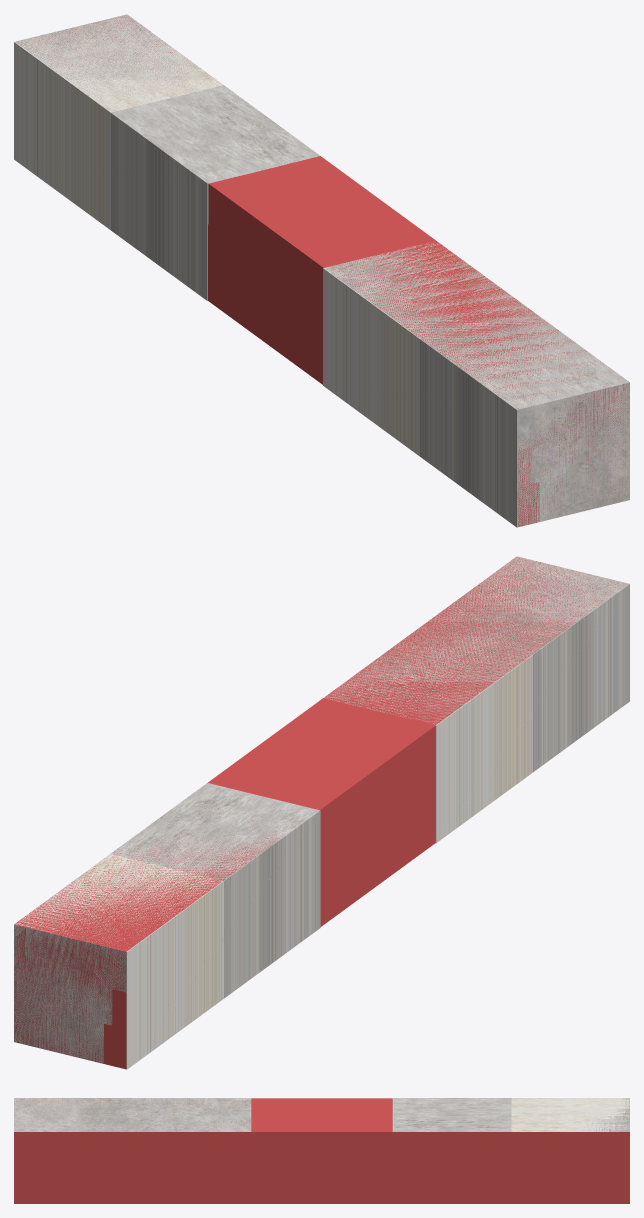
Rendered from warehouse_wall_trim_door2.DAE.
3 views of the same model, one above another, from view 1: azimuth 30°, elevation 25°; view 2: azimuth 150°, elevation 25°; view 3: azimuth 270°, elevation 25° (orthographic). The views are drawn at different scales.
Visible parts, largest first — view 1: colbox-01, bounds, warehouse_wall_trim_door2, colbox-02; view 2: bounds, colbox-01, warehouse_wall_trim_door2, colbox-02; view 3: bounds, warehouse_wall_trim_door2, colbox-01, colbox-02.
Part boxes in pixels (<box>): colbox-01: <box>14,15,319,300</box>; bounds: <box>18,16,629,526</box>; warehouse_wall_trim_door2: <box>15,14,629,521</box>; colbox-02: <box>323,268,629,527</box>; bounds: <box>14,557,623,1069</box>; colbox-01: <box>14,783,320,1069</box>; warehouse_wall_trim_door2: <box>14,556,628,1063</box>; colbox-02: <box>435,556,629,843</box>; bounds: <box>14,1098,629,1203</box>; warehouse_wall_trim_door2: <box>14,1098,629,1131</box>; colbox-01: <box>393,1098,629,1131</box>; colbox-02: <box>14,1098,250,1130</box>.
Size of the model in its own units: 80.49 by 620 by 80.
3 materials, 2 textured.
